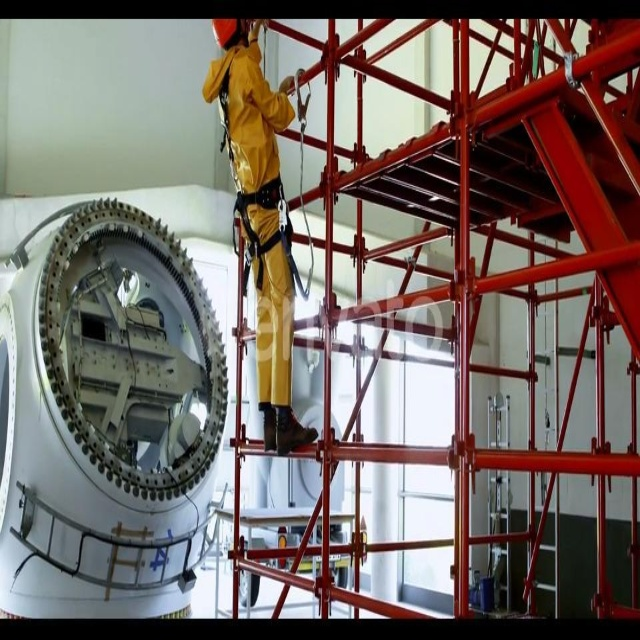Arnes_seguridad: (211, 52, 300, 290)
